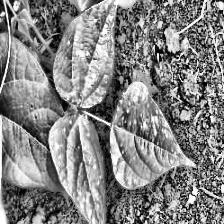Bean Rust: (109, 79, 195, 192), (57, 0, 114, 107), (53, 112, 105, 224)
